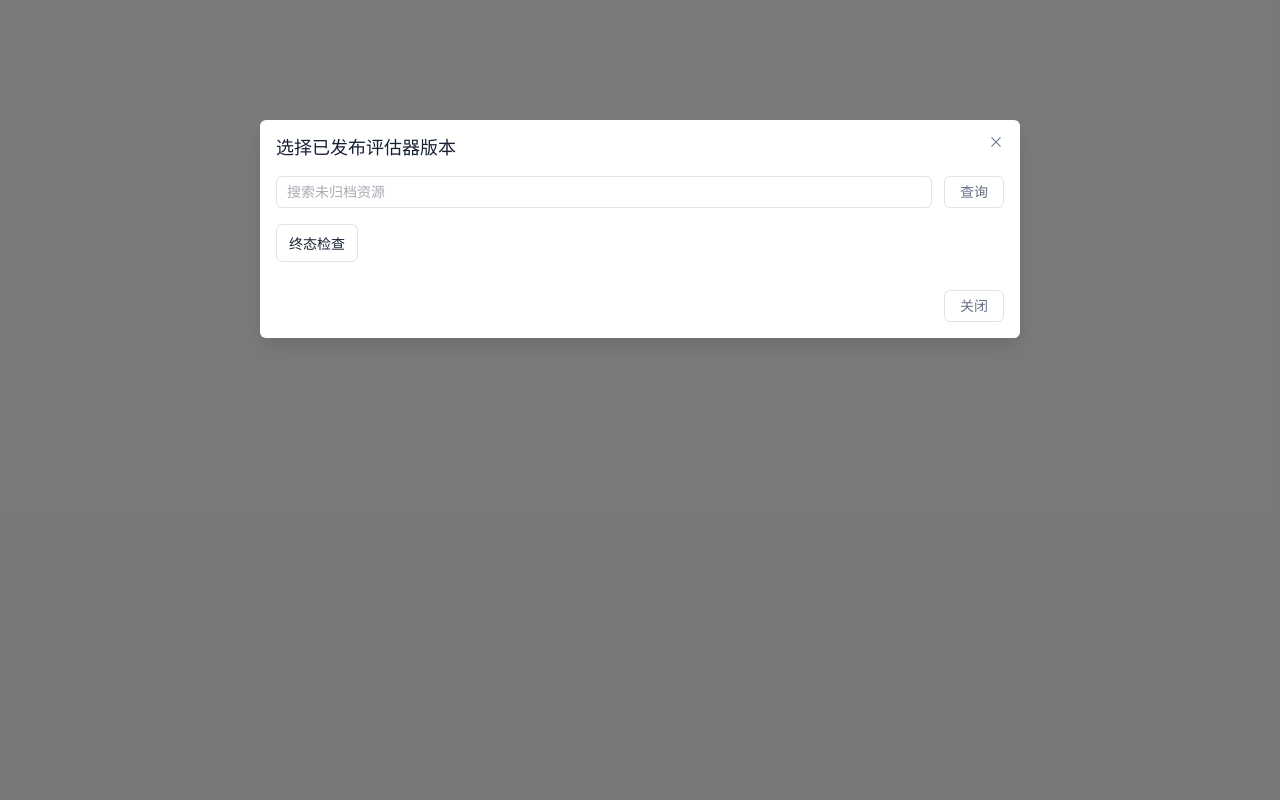
Test case: paged source and binding selectors › 线上规则只有显式的线上选择器能选择：true
Click the button "终态检查": (317, 243) [276, 224, 358, 262]
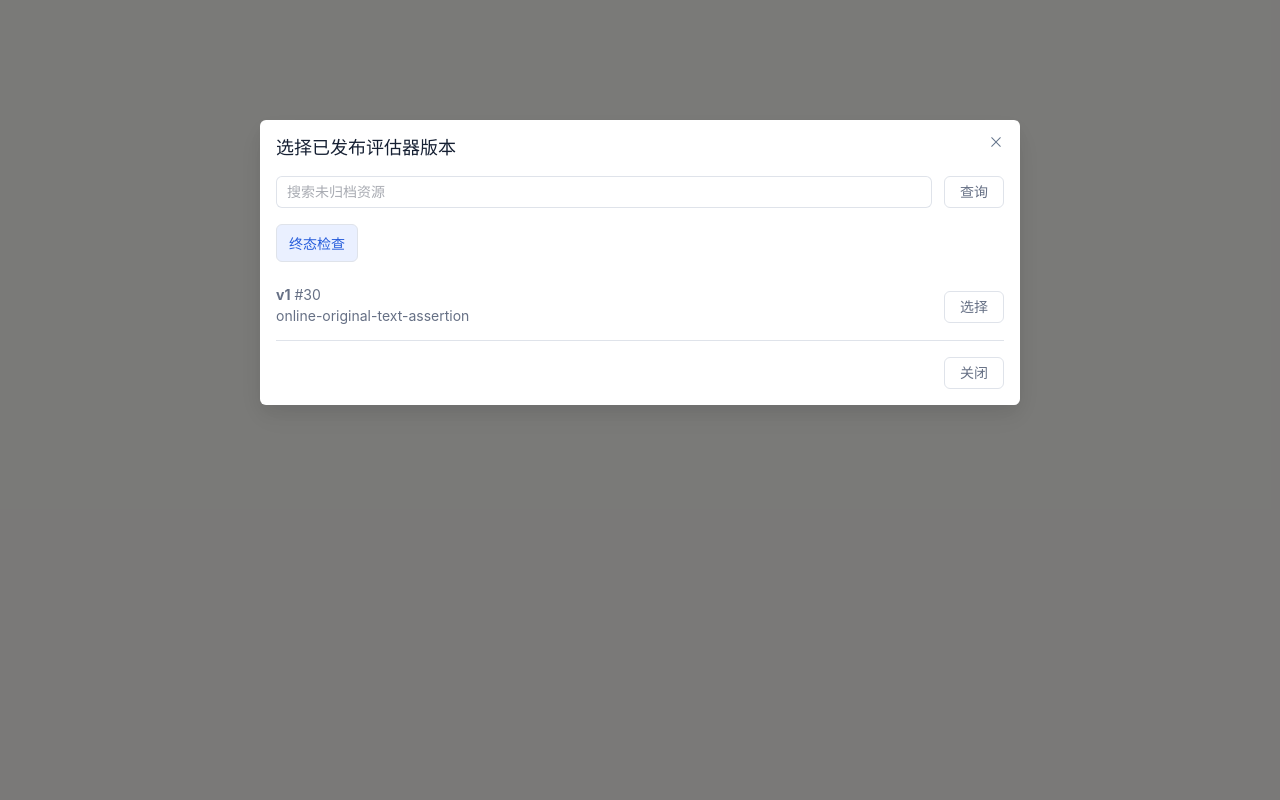
Expected: the button "选择" is enabled, [944, 291, 1004, 323]
